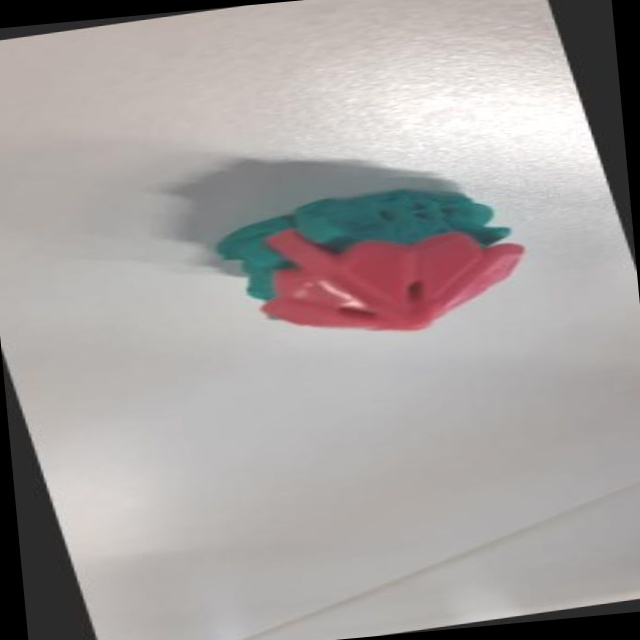House: (192, 172, 545, 361)
